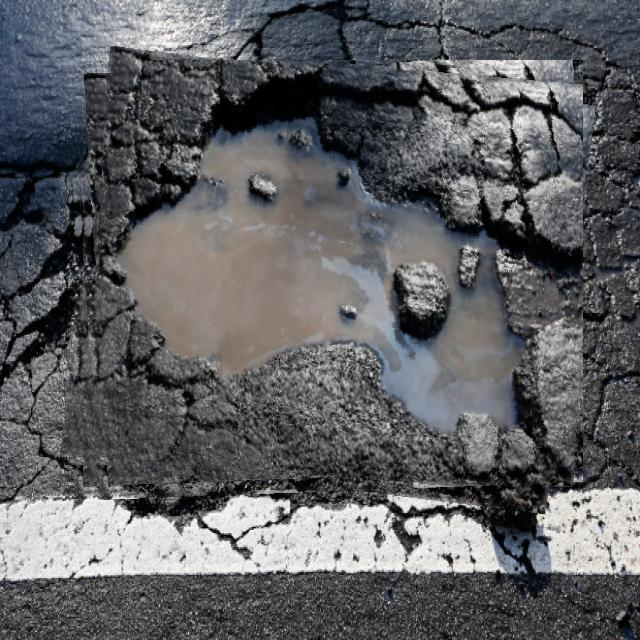Pothole: (72, 61, 583, 500)
